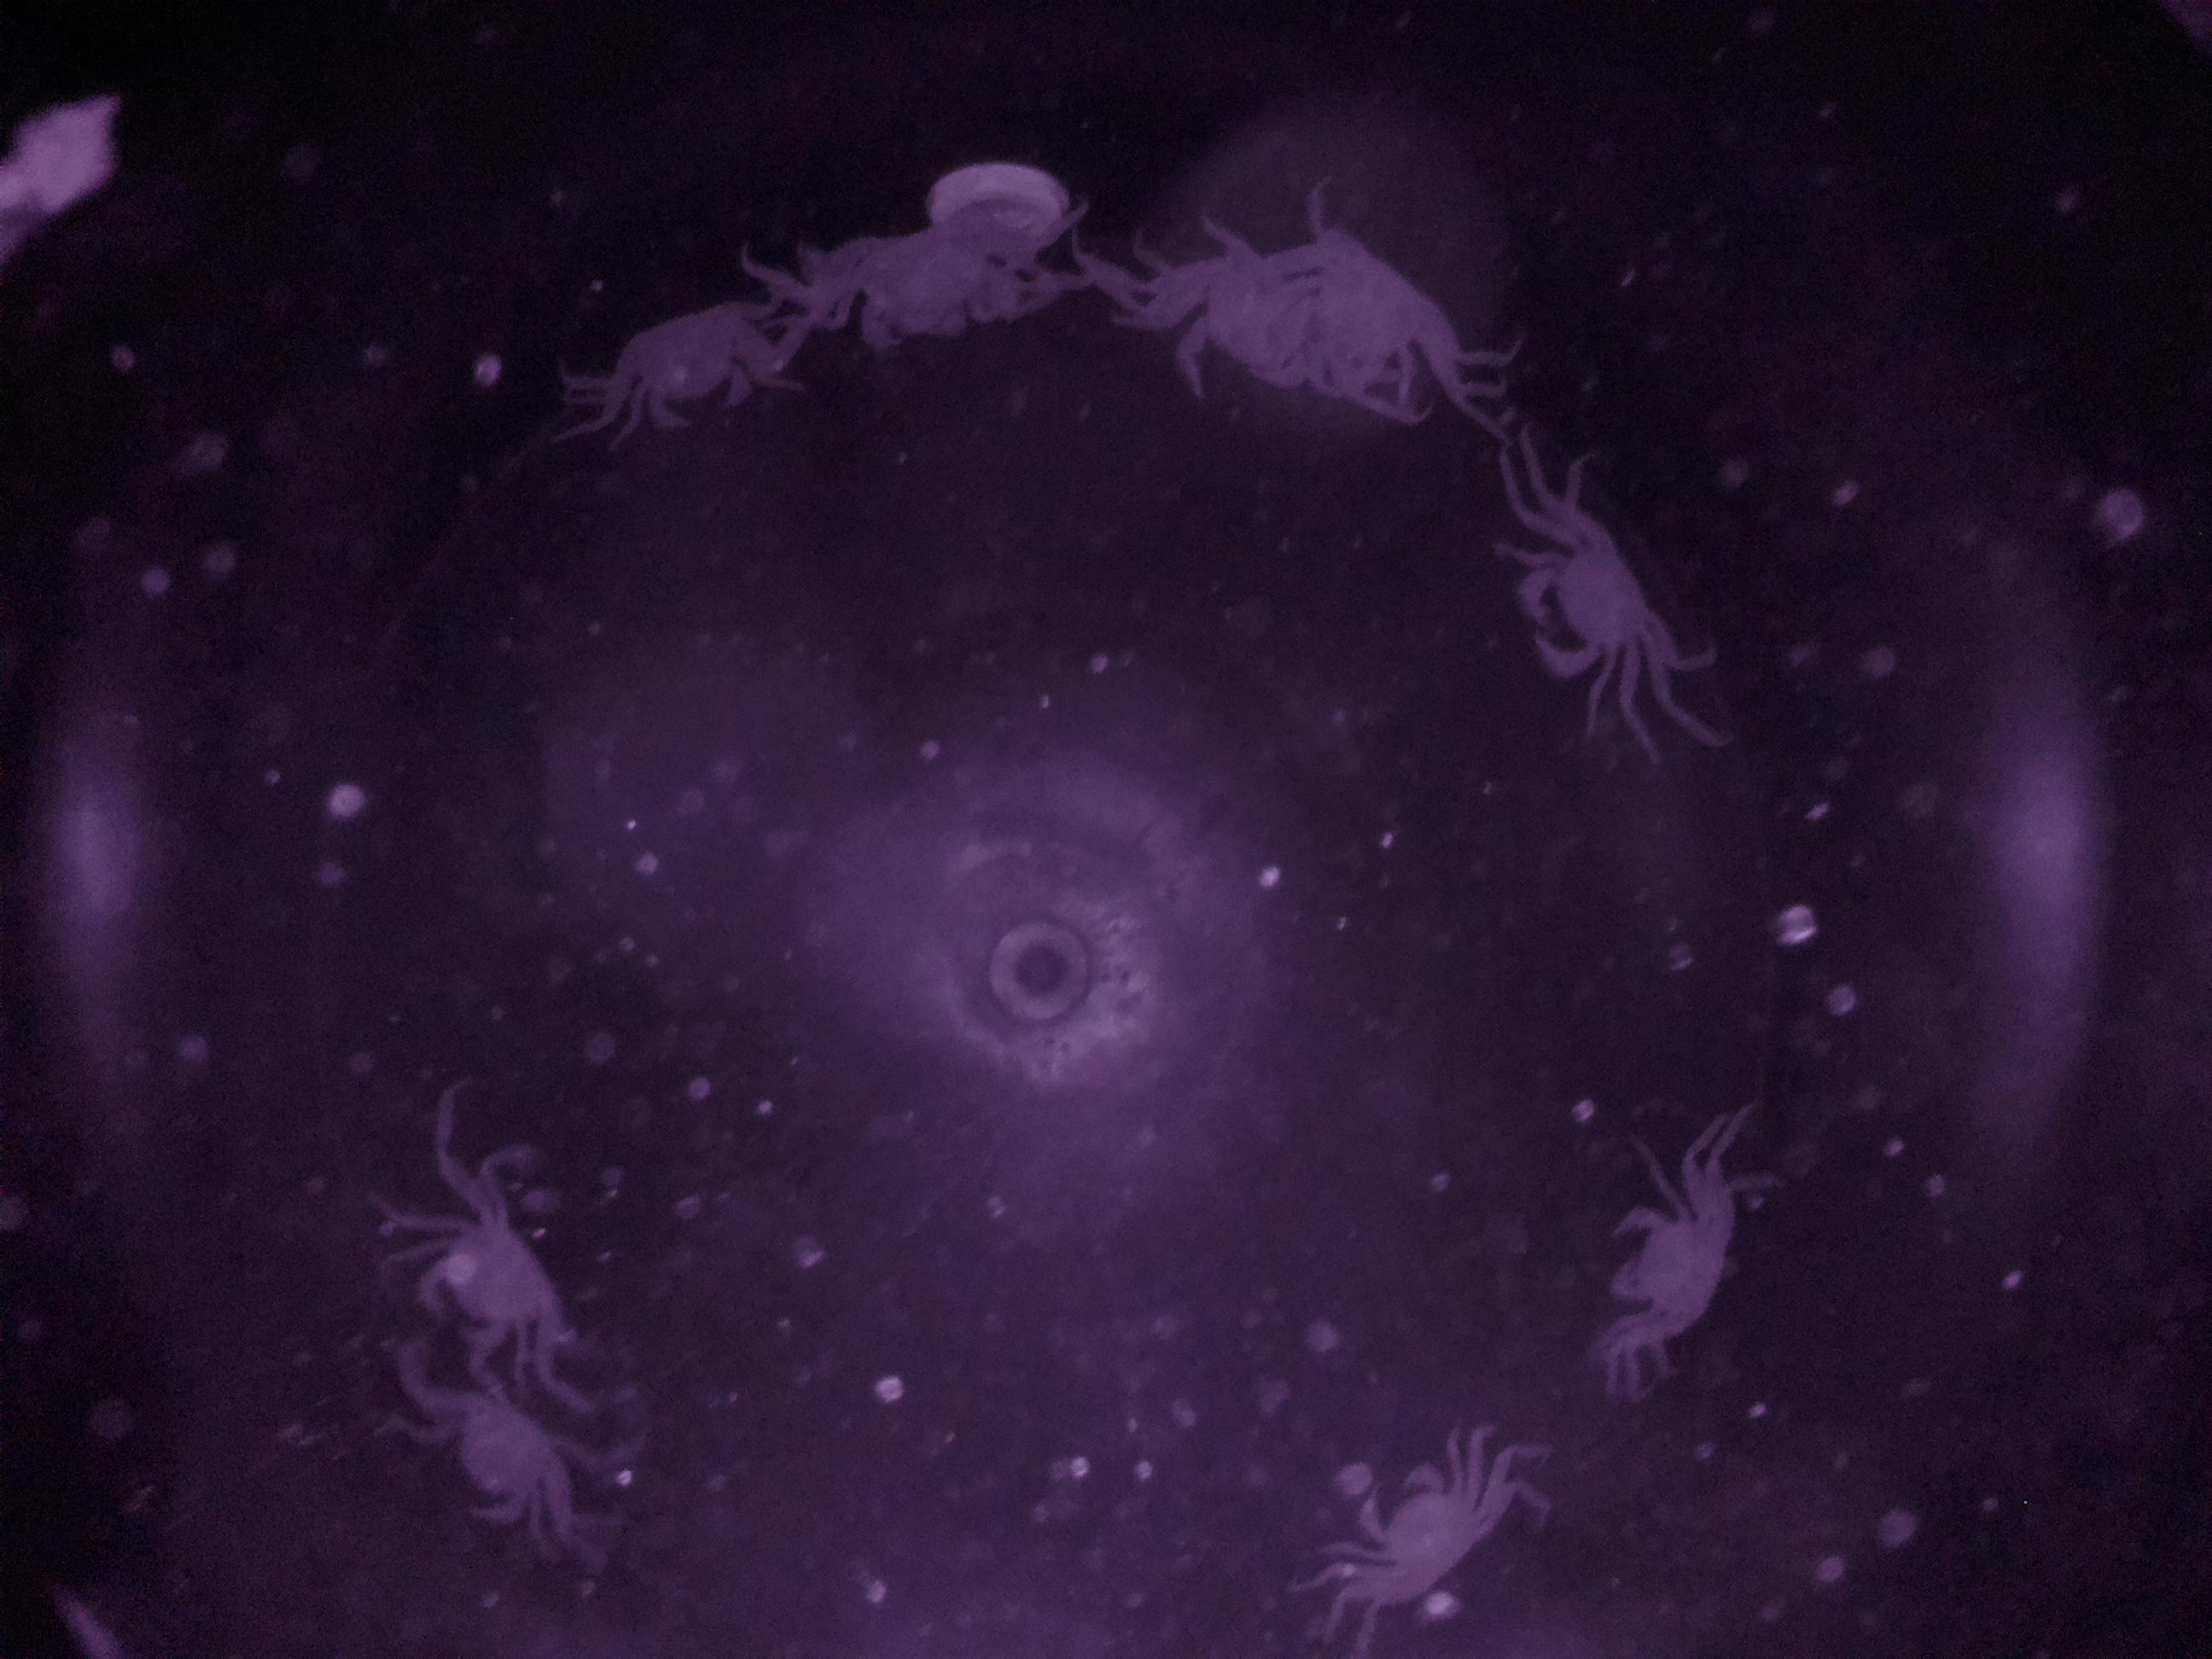Crab: (1489, 493, 1679, 706), (1583, 1157, 1749, 1384), (1317, 1441, 1512, 1610), (599, 291, 782, 441)
